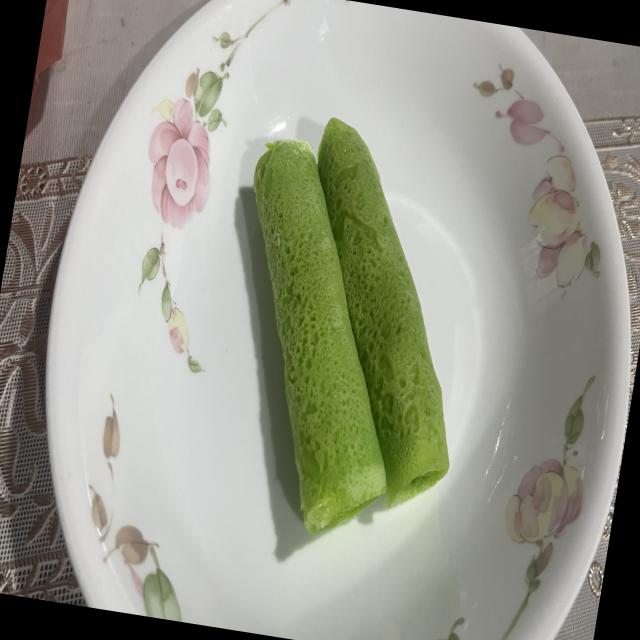Kuih-Ketayap: (253, 139, 386, 533), (317, 118, 449, 507)
